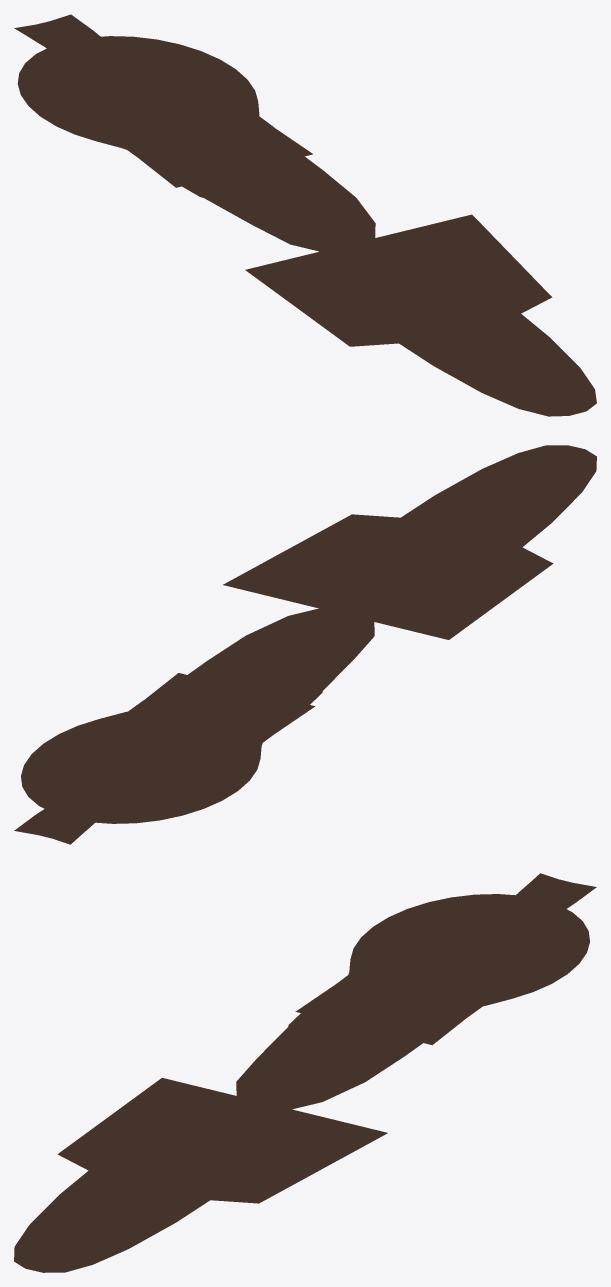
Rendered from Footprints.fbx.
The picture shows the model from 3 angles, top to bottom: view 1: azimuth 30°, elevation 25°; view 2: azimuth 150°, elevation 25°; view 3: azimuth 330°, elevation 25°; orthographic projection.
Parts seen in each view (by area): view 1: IronFlippersOnHeelsFootprint, GunBootFootPrint, CartoonShoesFootprint, WhiteLongShoesFootprint, BananaShoesFootprint, MercedesShoesFootprint; view 2: IronFlippersOnHeelsFootprint, CartoonShoesFootprint, GunBootFootPrint, MercedesShoesFootprint, WhiteLongShoesFootprint, BananaShoesFootprint; view 3: IronFlippersOnHeelsFootprint, GunBootFootPrint, CartoonShoesFootprint, BananaShoesFootprint, WhiteLongShoesFootprint, MercedesShoesFootprint, KeyboardSlippersFootprint.
Boxes of the visible parts, <box> form: IronFlippersOnHeelsFootprint: <box>127,84,552,346</box>; GunBootFootPrint: <box>49,50,303,204</box>; CartoonShoesFootprint: <box>17,36,259,174</box>; WhiteLongShoesFootprint: <box>141,128,596,416</box>; BananaShoesFootprint: <box>14,14,341,231</box>; MercedesShoesFootprint: <box>73,63,375,253</box>; IronFlippersOnHeelsFootprint: <box>148,514,553,771</box>; CartoonShoesFootprint: <box>21,695,263,823</box>; GunBootFootPrint: <box>53,663,324,809</box>; MercedesShoesFootprint: <box>78,606,374,795</box>; WhiteLongShoesFootprint: <box>145,445,596,732</box>; BananaShoesFootprint: <box>14,629,343,844</box>; IronFlippersOnHeelsFootprint: <box>57,942,489,1203</box>; GunBootFootPrint: <box>287,908,558,1053</box>; CartoonShoesFootprint: <box>335,894,589,1021</box>; BananaShoesFootprint: <box>267,873,596,1088</box>; WhiteLongShoesFootprint: <box>14,987,466,1272</box>; MercedesShoesFootprint: <box>236,922,538,1111</box>; KeyboardSlippersFootprint: <box>421,922,520,978</box>.
Size of the model in its own units: 391 by 0.2379 by 1598.
